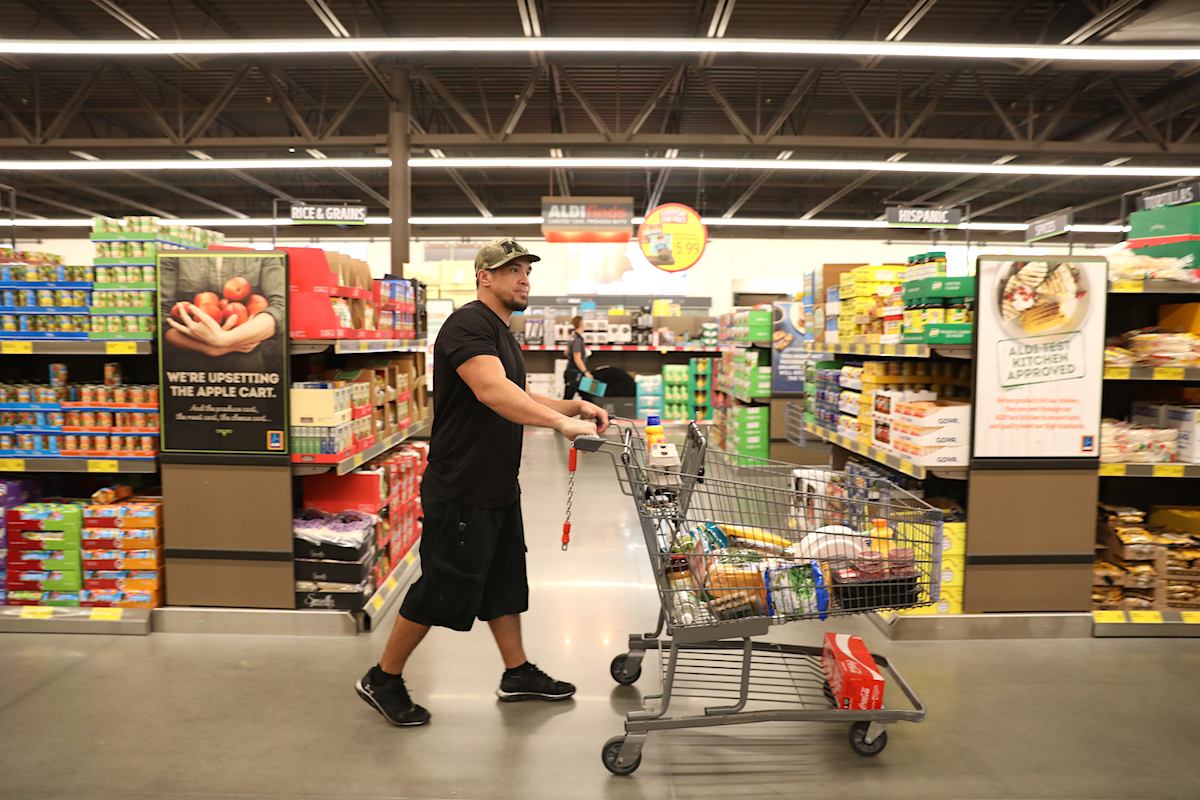Age_30_40: (477, 244, 538, 316)
E_White: (477, 244, 538, 316)
Emotion_Neutral: (477, 244, 538, 316)
G_Male: (477, 244, 538, 316)
Not_Face: (572, 314, 586, 334)
